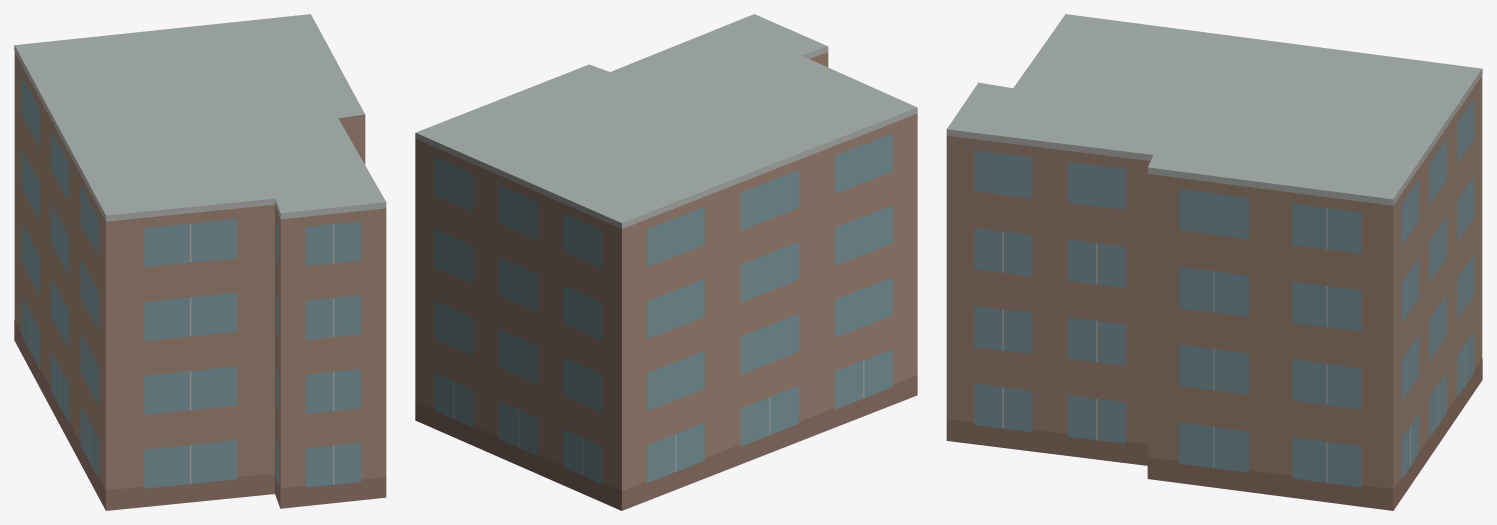
File: survey-upis-32727587.glb
3 views of the same model, side by side, from view 1: azimuth 30°, elevation 25°; view 2: azimuth 150°, elevation 25°; view 3: azimuth 270°, elevation 25° (orthographic). The views are drawn at different scales.
Visible parts, largest first — view 1: survey-upis-32727587.tmp; view 2: survey-upis-32727587.tmp; view 3: survey-upis-32727587.tmp.
Part boxes in pixels (left/top/right/bottom): survey-upis-32727587.tmp: left=14, top=14, right=386, bottom=510; survey-upis-32727587.tmp: left=415, top=14, right=917, bottom=510; survey-upis-32727587.tmp: left=946, top=14, right=1482, bottom=510.
Bounding box in the file's own units: 15.12 × 11.84 × 18.47.
